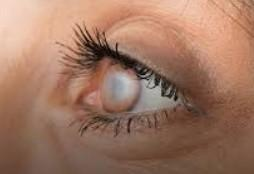eye: (99, 62, 143, 114)
